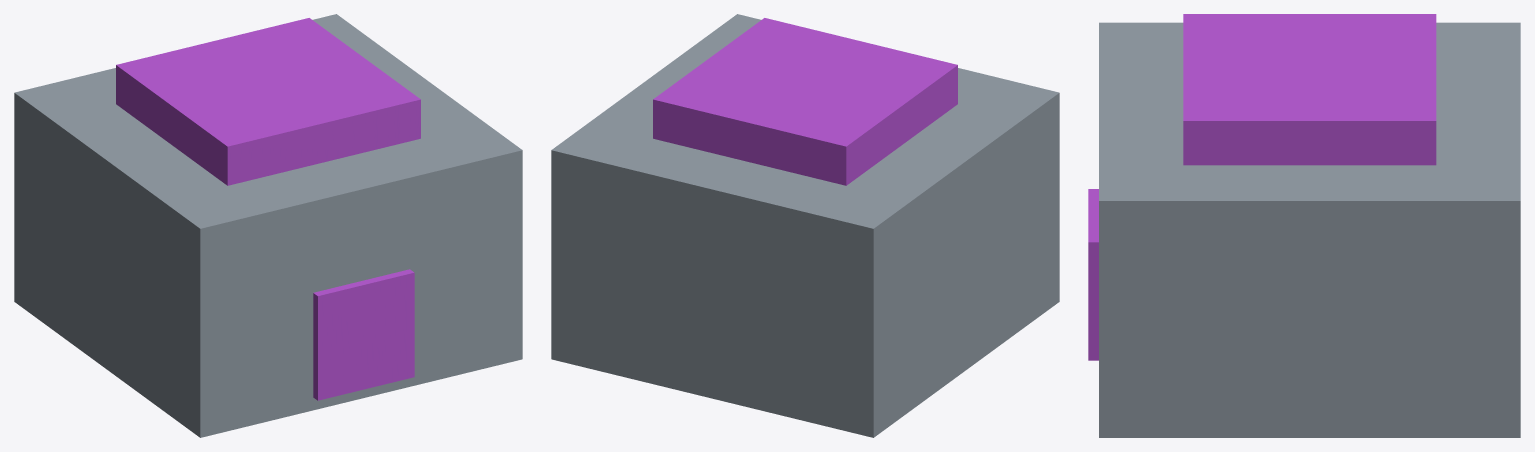
File: CH_EchoTurret_LOD0.glb
3 views of the same model, side by side, from view 1: azimuth 30°, elevation 25°; view 2: azimuth 150°, elevation 25°; view 3: azimuth 270°, elevation 25° (orthographic). The views are drawn at different scales.
Visible parts, largest first — view 1: EntranceGate; view 2: EntranceGate; view 3: EntranceGate.
Part boxes in pixels (x1=…): EntranceGate: x1=14, y1=14, x2=522, y2=437; EntranceGate: x1=551, y1=14, x2=1059, y2=437; EntranceGate: x1=1088, y1=14, x2=1520, y2=437.
Bounding box in the file's own units: 400 × 295 × 410.
